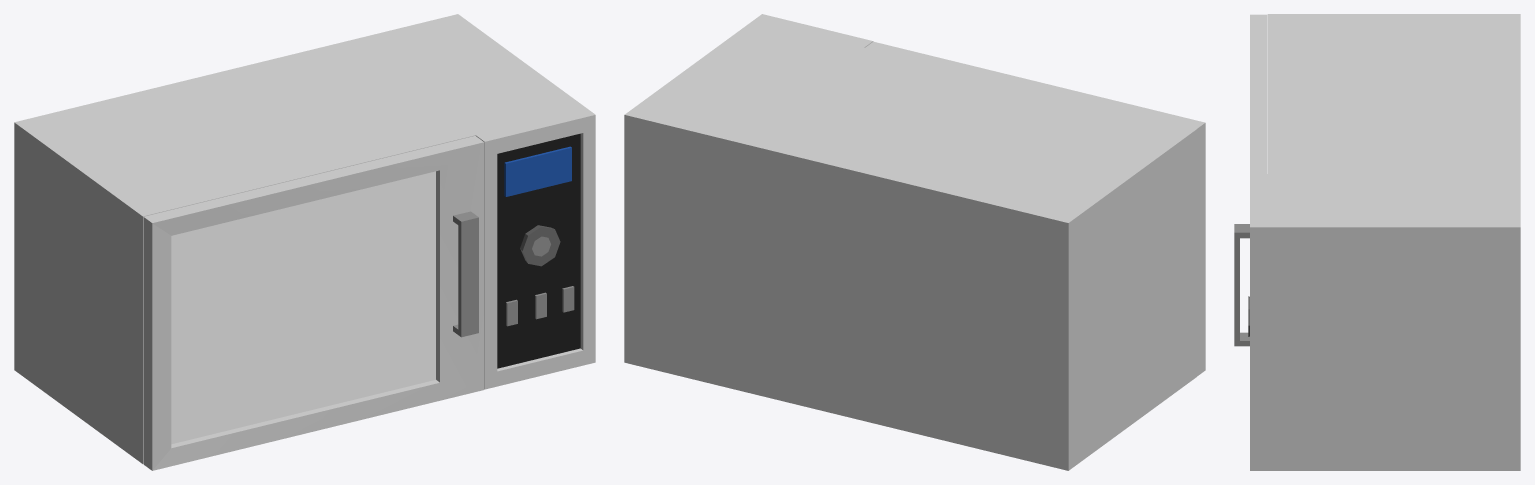
The model's file is Kitchen Microwave.glb.
The picture shows the model from 3 angles, left to right: view 1: azimuth 30°, elevation 25°; view 2: azimuth 150°, elevation 25°; view 3: azimuth 270°, elevation 25°; orthographic projection.
Parts seen in each view (by area): view 1: Microwave; view 2: Microwave; view 3: Microwave.
Boxes of the visible parts, x1,y1,x2,y2 form: Microwave: [14, 14, 595, 470]; Microwave: [624, 14, 1205, 470]; Microwave: [1234, 14, 1520, 470].
Bounding box in the file's own units: 0.594 × 0.3172 × 0.3376.
2 materials, 1 textured.
